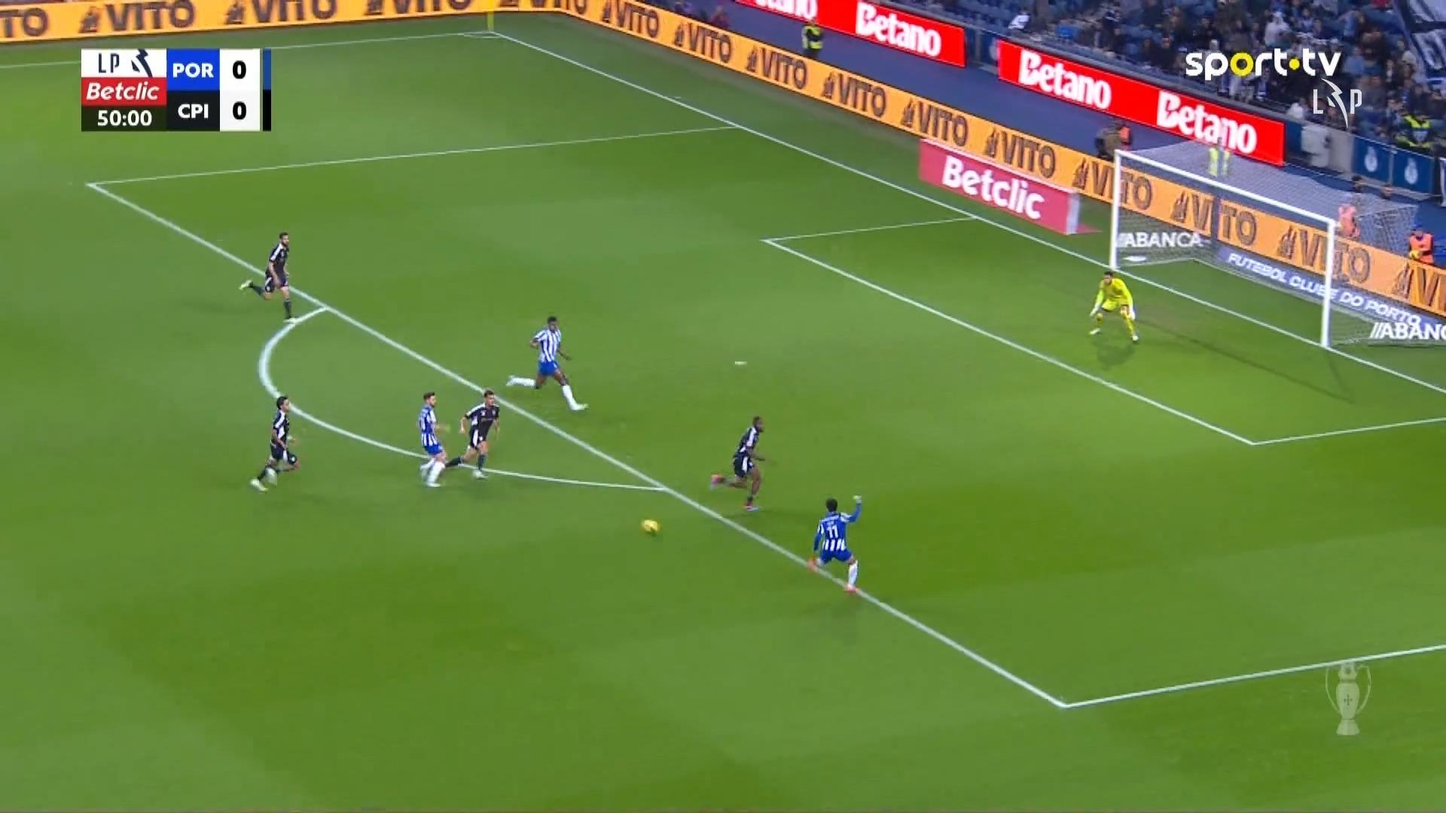ball: (641, 519, 659, 534)
goalkeeper: (1087, 269, 1139, 343)
player: (505, 314, 588, 411), (806, 493, 863, 593), (709, 415, 766, 512), (237, 230, 295, 322), (446, 388, 502, 480), (249, 394, 300, 492), (416, 391, 450, 487)
